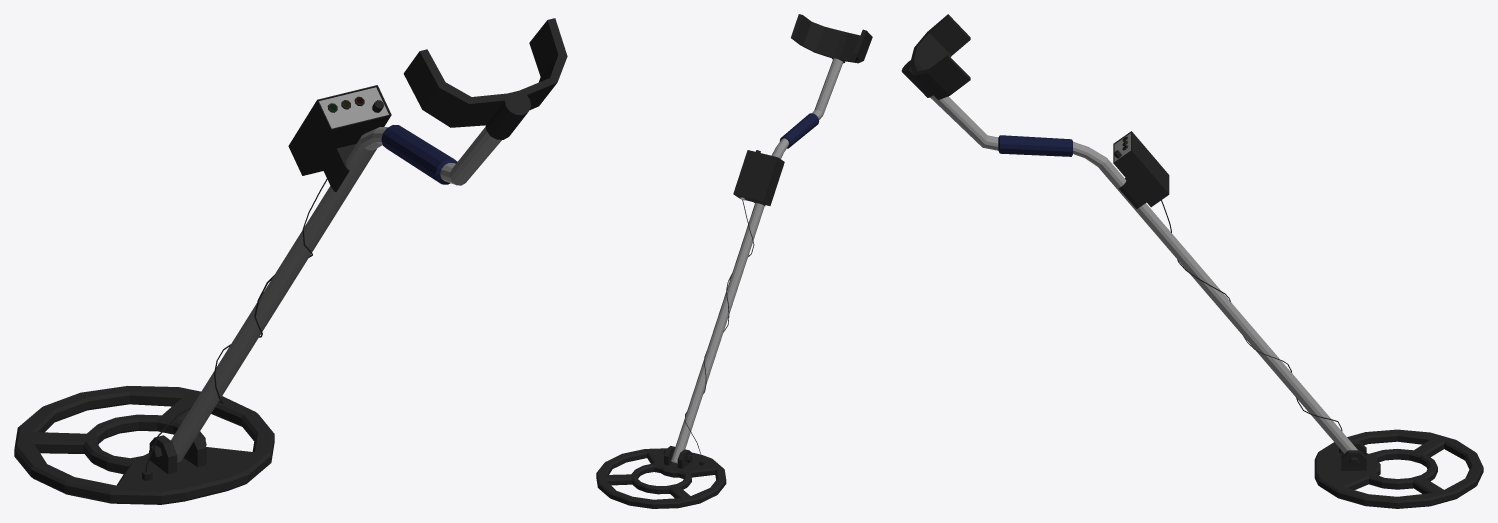
Rendered from wykrywacz_metalu.fbx.
3 views of the same model, side by side, from view 1: azimuth 30°, elevation 25°; view 2: azimuth 150°, elevation 25°; view 3: azimuth 270°, elevation 25° (orthographic). The views are drawn at different scales.
Parts seen in each view (by area): view 1: talerz, trzonek, uvhwyt na ręke; view 2: trzonek, talerz, uvhwyt na ręke; view 3: trzonek, talerz, uvhwyt na ręke.
Part boxes in pixels (x1,y1,x2,y2): talerz: [14, 386, 274, 504]; trzonek: [145, 85, 457, 472]; uvhwyt na ręke: [403, 18, 567, 185]; trzonek: [671, 113, 819, 463]; talerz: [596, 446, 726, 508]; uvhwyt na ręke: [791, 14, 872, 119]; trzonek: [998, 131, 1357, 453]; talerz: [1314, 429, 1483, 508]; uvhwyt na ręke: [901, 14, 998, 150].
Size of the model in its own units: 426 by 1197 by 1441.
